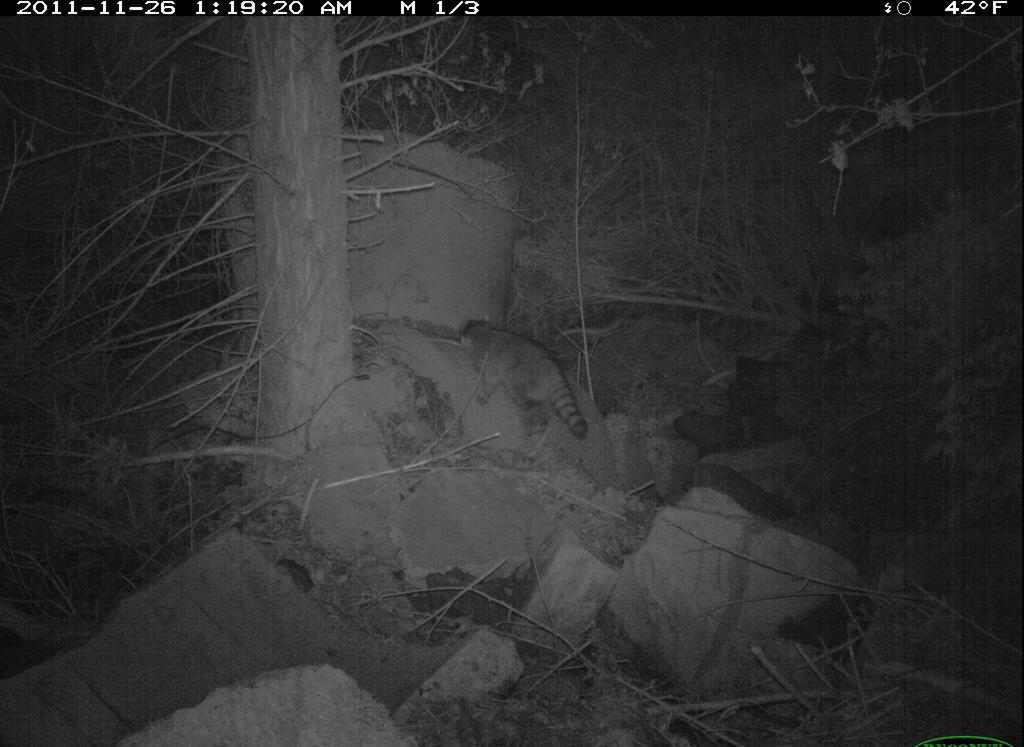raccoon: (433, 282, 614, 486)
